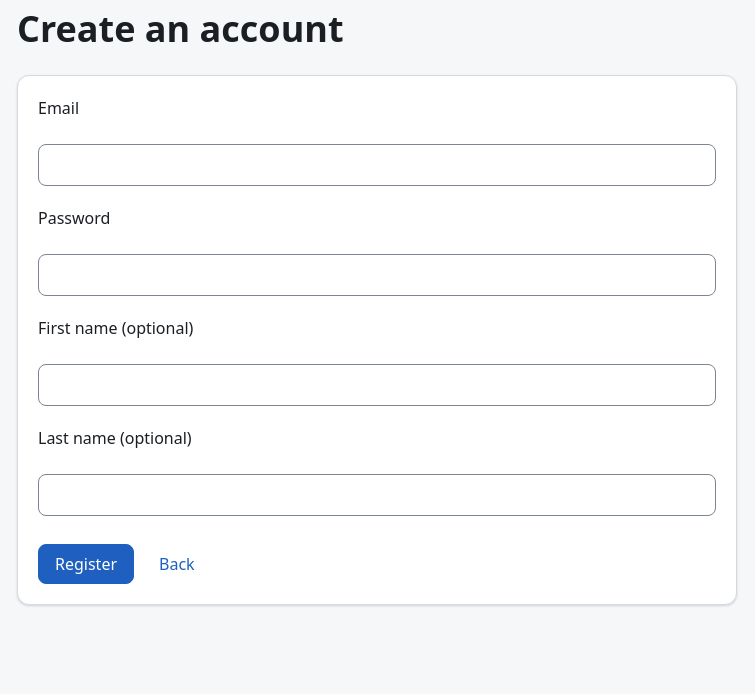
Test case: RegisterPage › says the email is taken on 409 and keeps the other values
Type "ada@example.ch" into the field labelled "Email" at (377, 165), box [38,144,716,186]
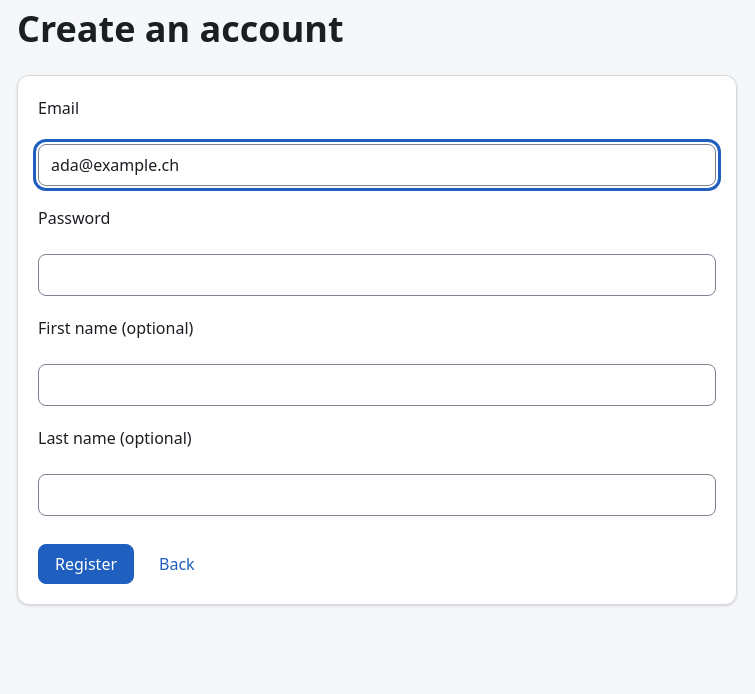
Type "CorrectHorse-Battery9" into the password field labelled "Password" at (377, 275), box [38,254,716,296]
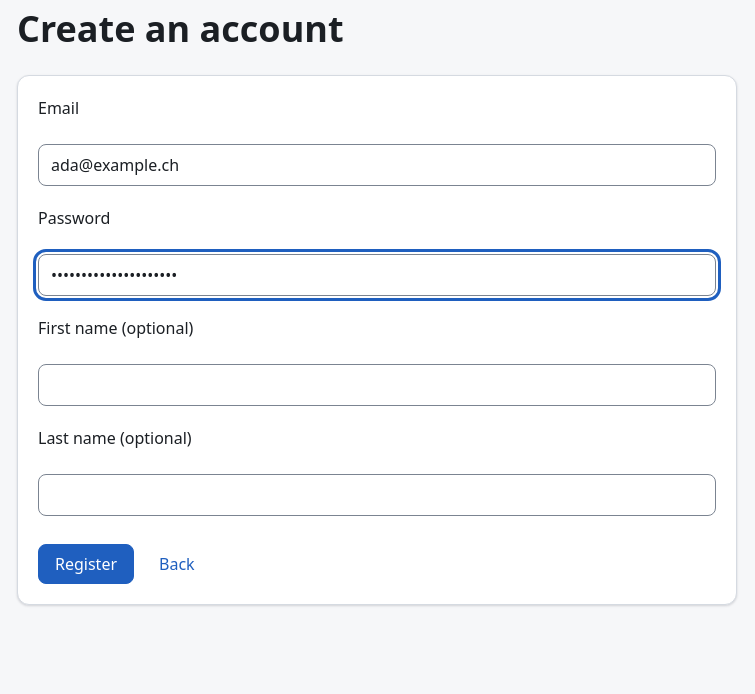
Type "Ada" into the field labelled "First name (optional)" at (377, 385), box [38,364,716,406]
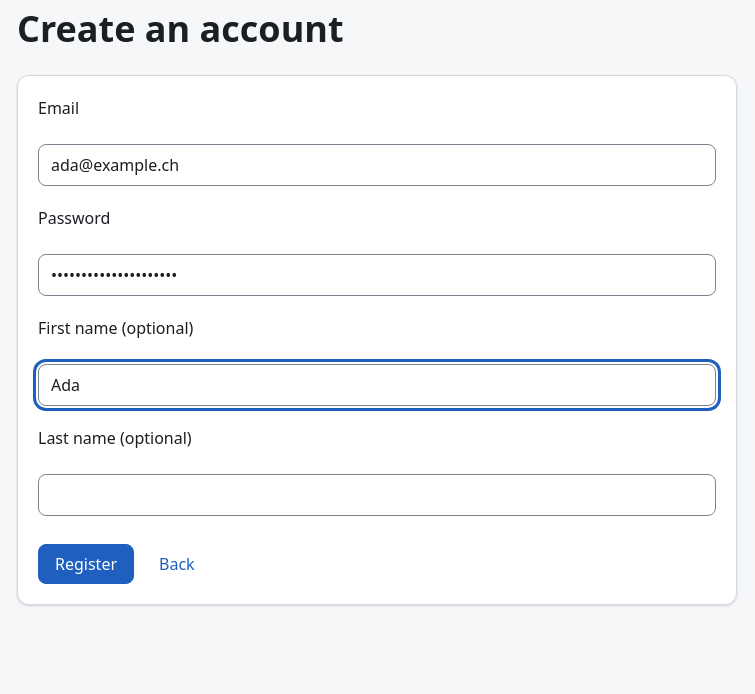
Click the button "Register" at (86, 564), box [38,544,134,584]
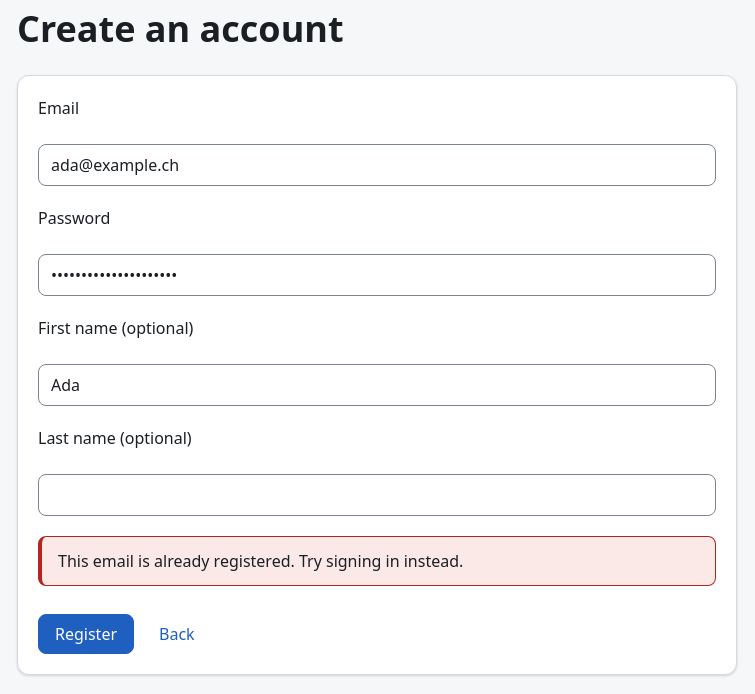
Check: the text "This email is already registered. Try signing in instead." is shown, box [58,550,463,572]
